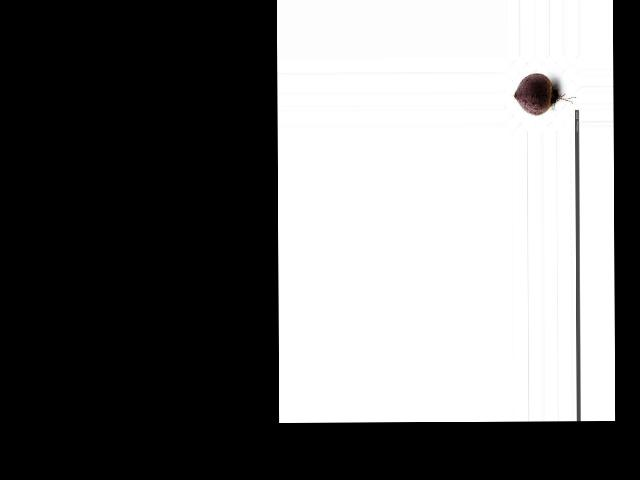beet: (513, 73, 576, 116)
